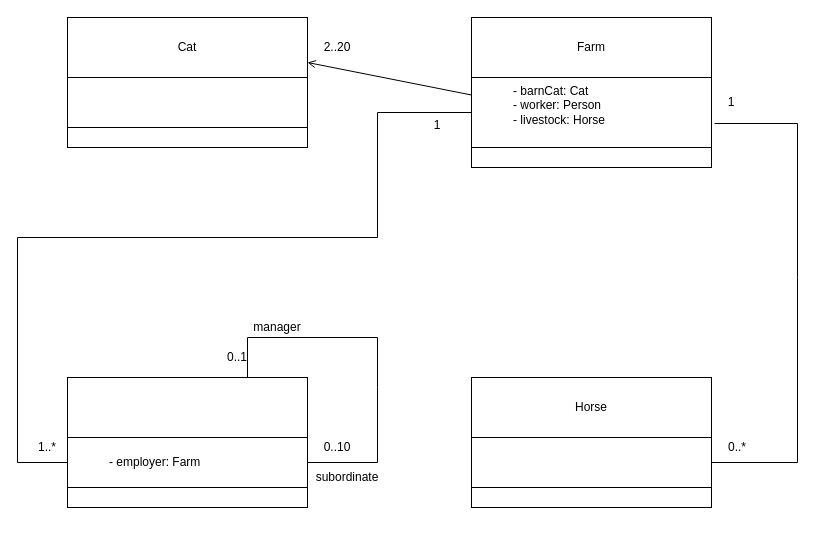
The diagram is 816 pixels wide and 548 high, and some of its shapes have lost their labels. Here are the shapes that lost their labels. From the top down, the box of each, then its label:
(66, 376, 308, 438): Person
(470, 436, 712, 488): - myFarm: Farm
